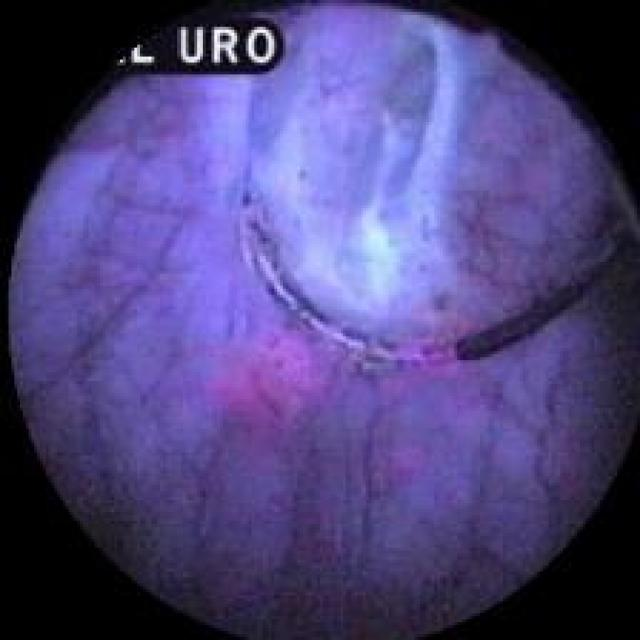color misalignment: (100, 22, 287, 73)
instrument: (245, 7, 626, 356)
